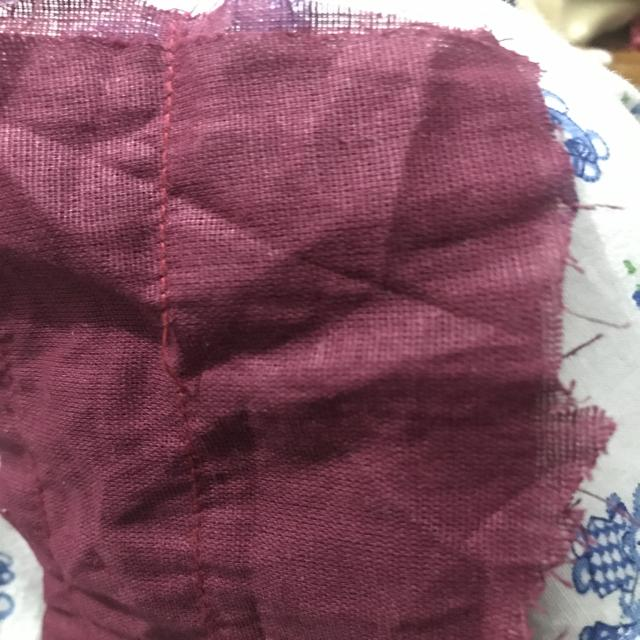skip: (149, 296, 208, 408)
